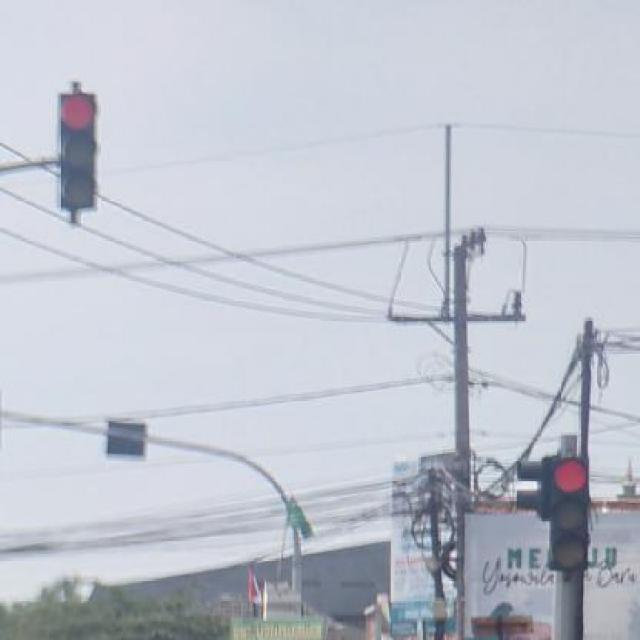traffic light: (550, 454, 592, 575), (61, 95, 96, 212)
